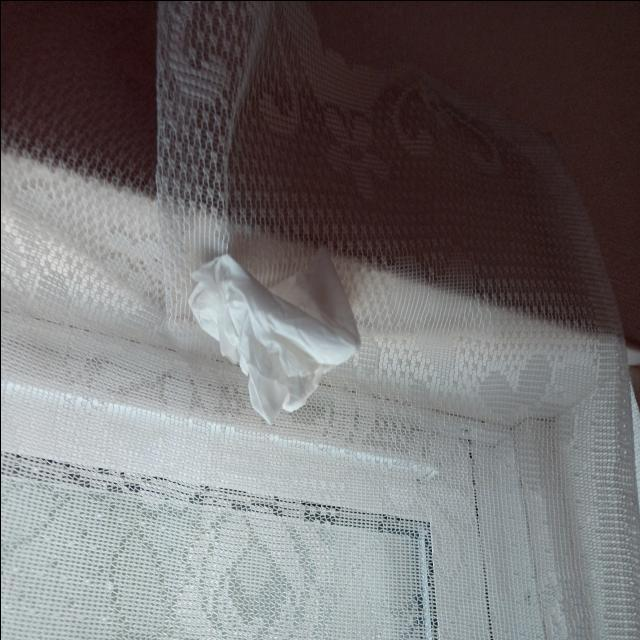Paper: (160, 235, 386, 418)
